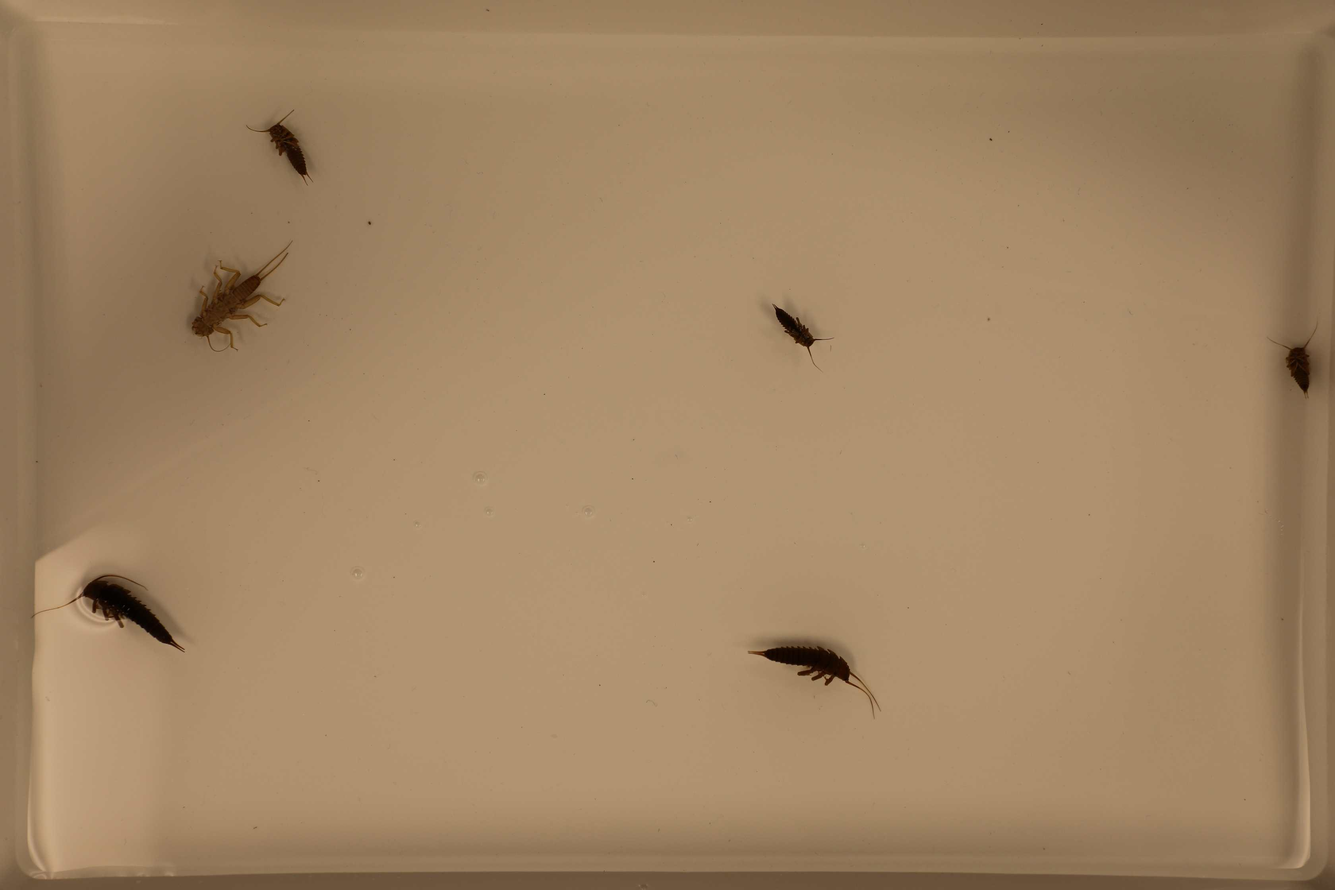Stonefly: (31, 573, 190, 656), (187, 239, 296, 358), (746, 637, 882, 722), (238, 104, 314, 187), (758, 296, 837, 375), (1265, 327, 1319, 396)
